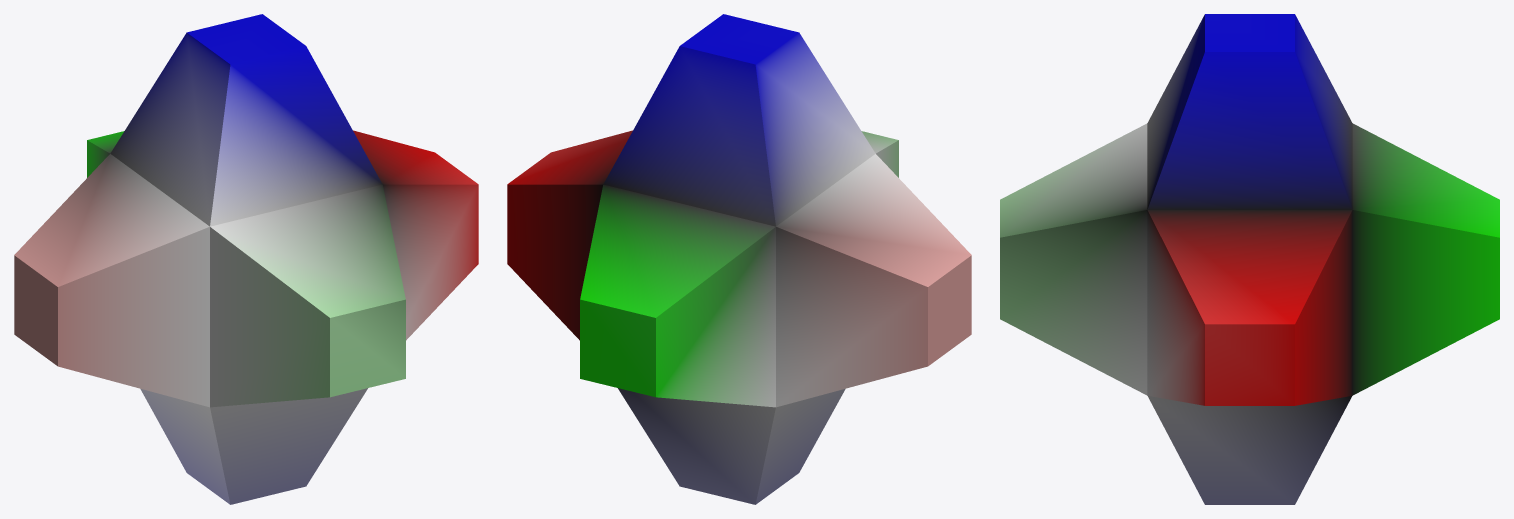
The model's file is axis.gltf.
3 views of the same model, side by side, from view 1: azimuth 30°, elevation 25°; view 2: azimuth 150°, elevation 25°; view 3: azimuth 270°, elevation 25° (orthographic). The views are drawn at different scales.
Visible parts, largest first — view 1: Cube; view 2: Cube; view 3: Cube.
Boxes of the visible parts, x1=… form: Cube: x1=14, y1=14, x2=478, y2=504; Cube: x1=507, y1=14, x2=971, y2=504; Cube: x1=1000, y1=14, x2=1499, y2=504.
Bounding box in the file's own units: 0.3008 × 0.3008 × 0.3008.
